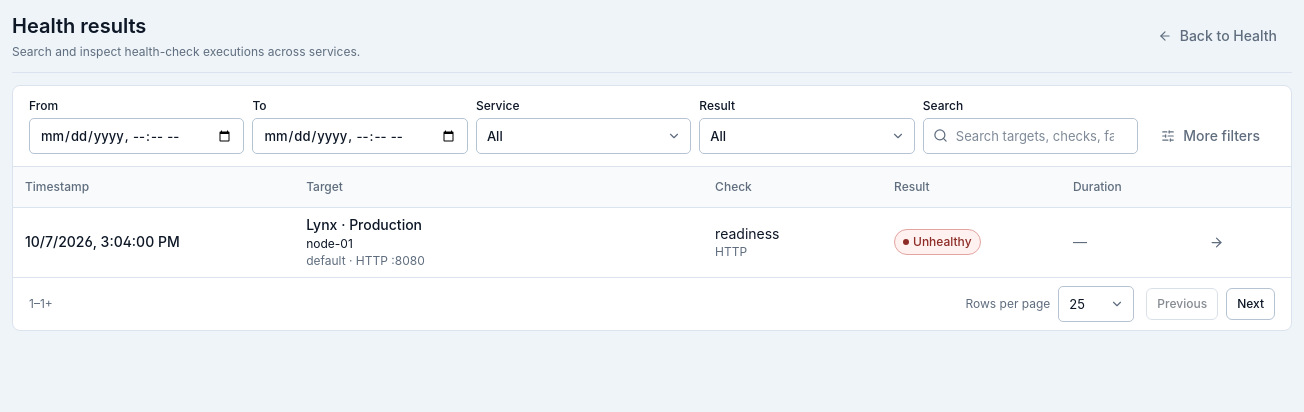
Health result history › offers accessible progressive disclosure of advanced mobile filters
Expected: the table named "Health result history" is shown, [13, 167, 1291, 277]
Click the button "More filters".
click(1211, 136)  # box [1146, 118, 1275, 154]
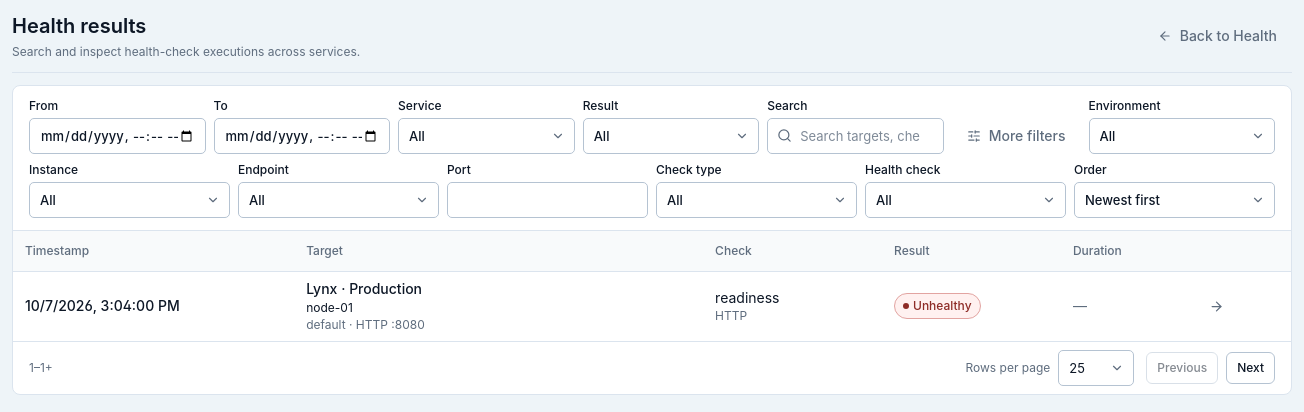
Now the button "More filters" is expanded, box [952, 118, 1080, 154]
